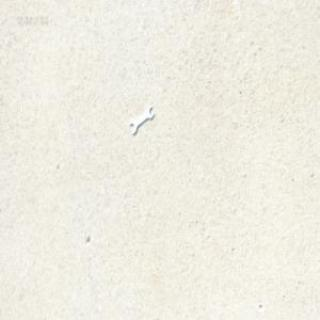Wrenchtrack_idkeyframe: (130, 104, 153, 134)
